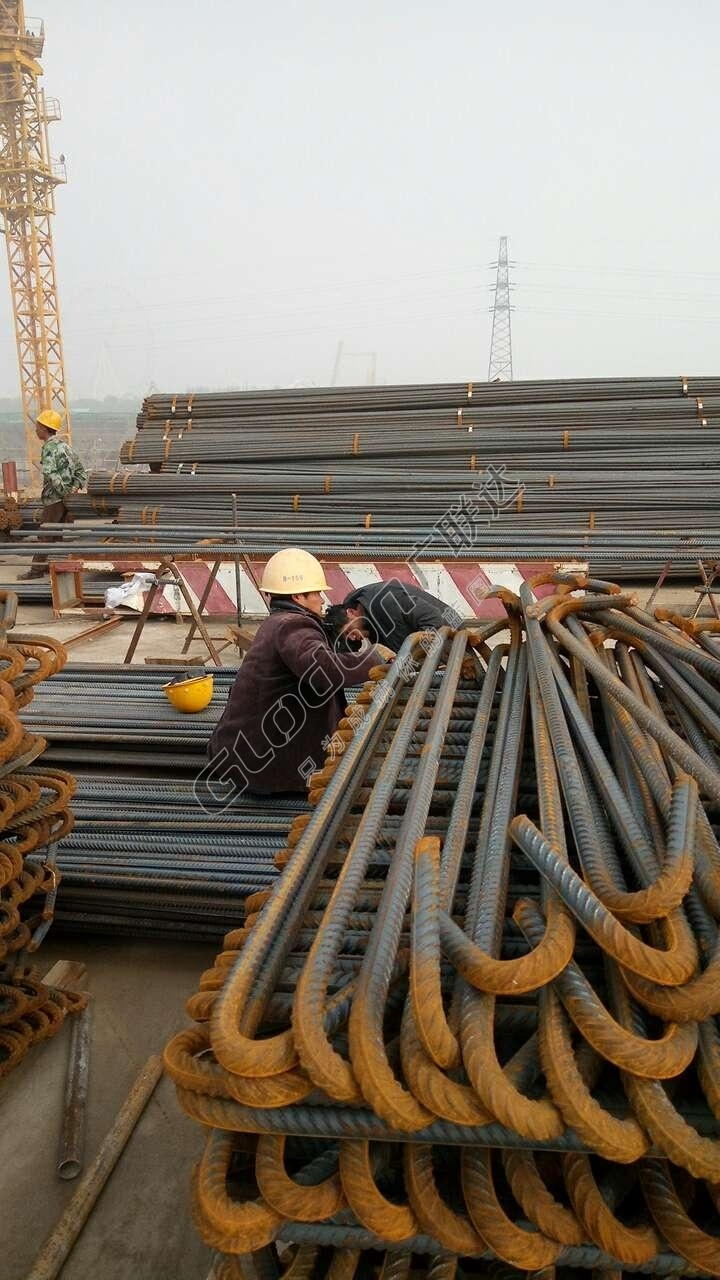none: (323, 601, 366, 654)
yellow: (256, 544, 329, 623), (31, 409, 62, 443)
